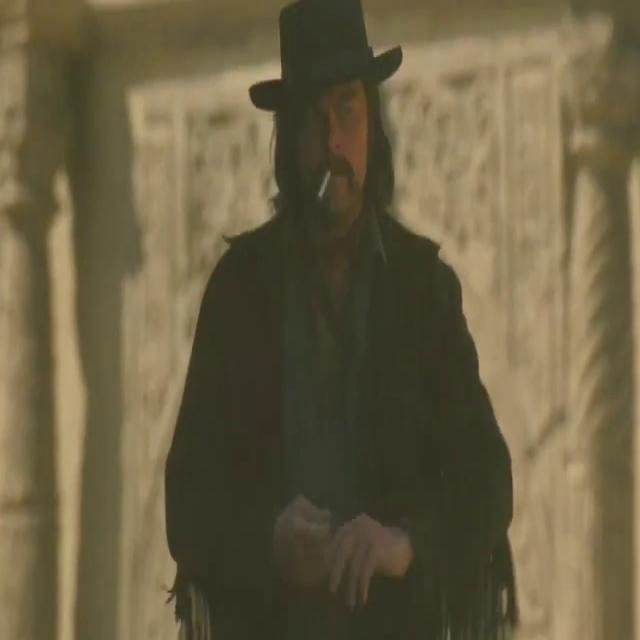Smooking: (312, 160, 334, 210)
